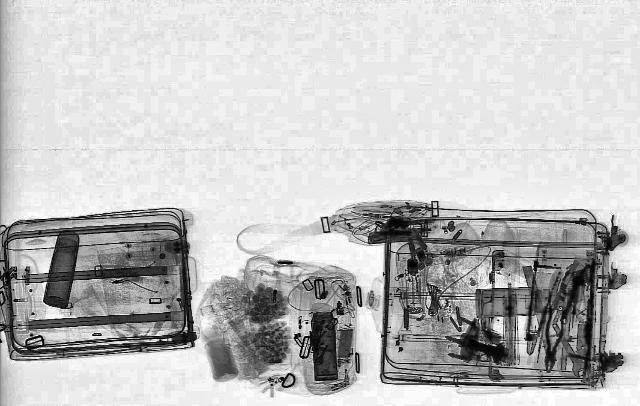Pliers: (537, 291, 571, 373), (518, 301, 550, 355)
